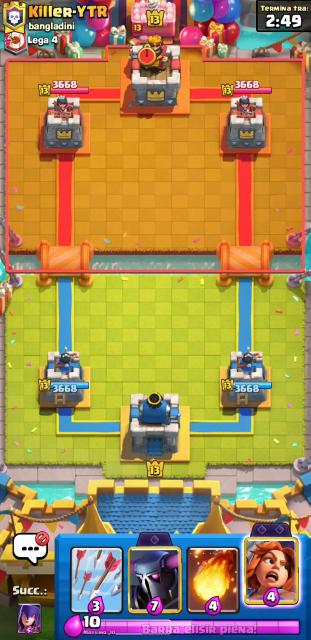enemy_ranged: (129, 23, 142, 61)
